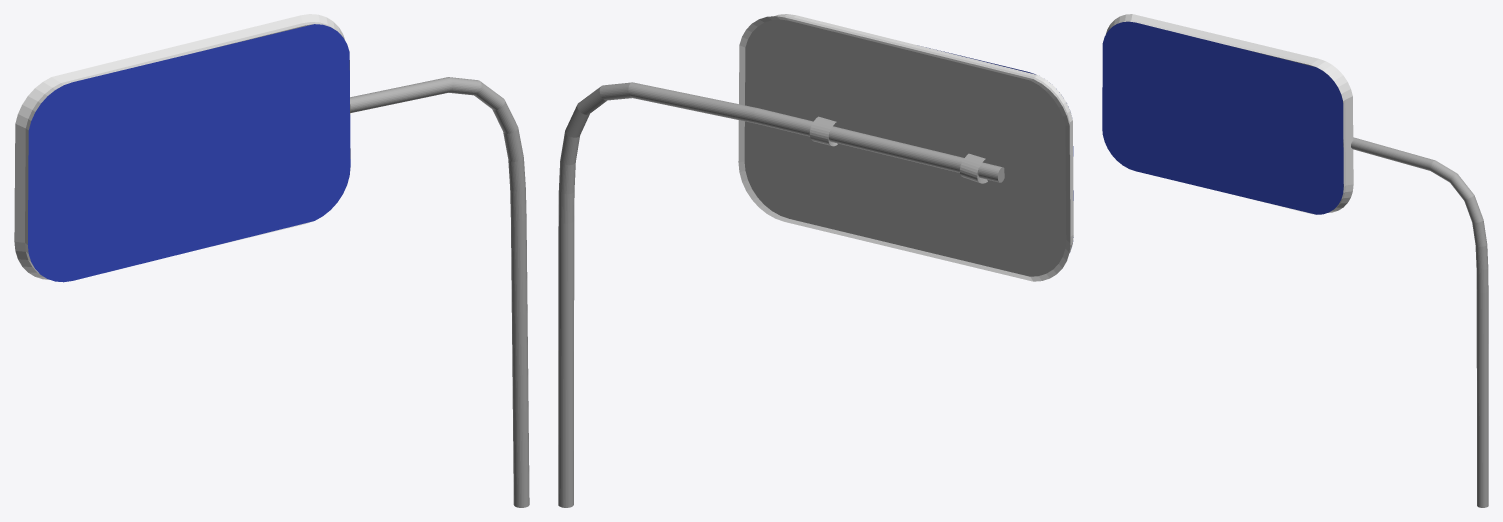
Rendered from paleta.dae.
The picture shows the model from 3 angles, left to right: view 1: azimuth 30°, elevation 25°; view 2: azimuth 150°, elevation 25°; view 3: azimuth 330°, elevation 25°; orthographic projection. The views are drawn at different scales.
Parts seen in each view (by area): view 1: Cylinder_001, Cylinder; view 2: Cylinder; view 3: Cylinder_001, Cylinder.
Part boxes in pixels (<box>): Cylinder_001: <box>27,24,350,282</box>; Cylinder: <box>14,14,529,507</box>; Cylinder: <box>558,14,1073,507</box>; Cylinder_001: <box>1102,21,1343,214</box>; Cylinder: <box>1106,14,1488,507</box>.
Size of the model in its own units: 107 by 6.22 by 108.
